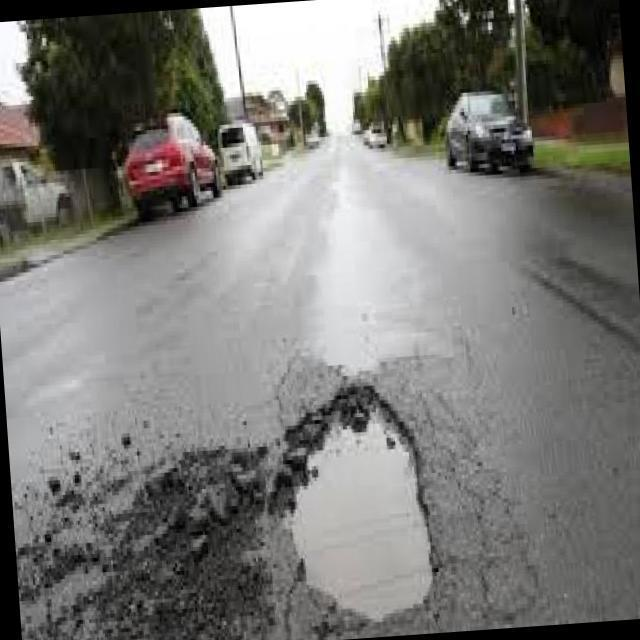Pothole: (290, 391, 431, 622)
